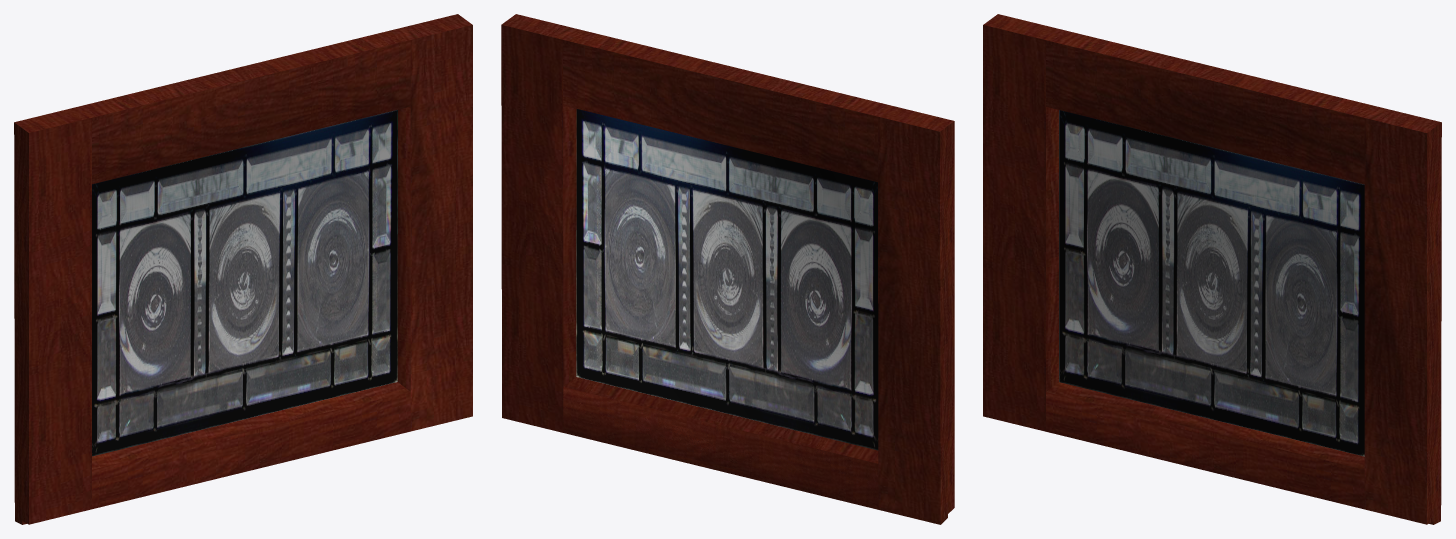
Rendered from StableDoorMahoganyUPPER03.fbx.
The picture shows the model from 3 angles, left to right: view 1: azimuth 30°, elevation 25°; view 2: azimuth 150°, elevation 25°; view 3: azimuth 330°, elevation 25°; orthographic projection.
Parts seen in each view (by area): view 1: default; view 2: default; view 3: default.
Part boxes in pixels (x1=…): default: x1=14, y1=14, x2=472, y2=524; default: x1=501, y1=14, x2=954, y2=524; default: x1=983, y1=14, x2=1441, y2=524.
Bounding box in the file's own units: 113 × 96.82 × 6.56.
